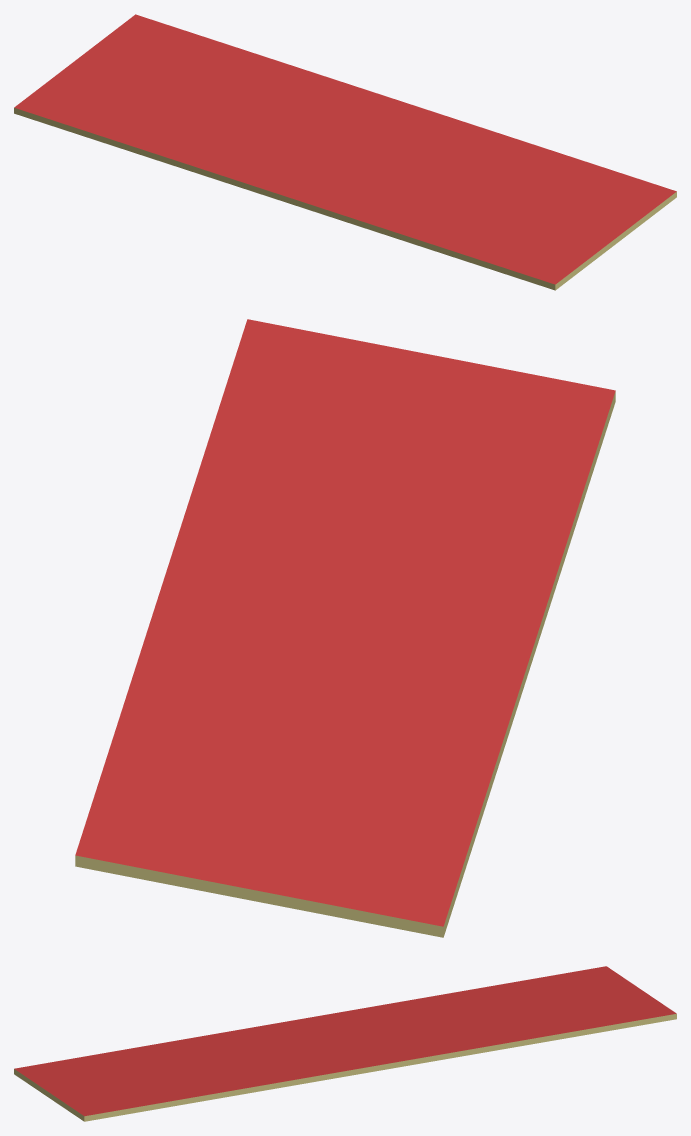
3 renders of one model, top to bottom at view 1: azimuth 30°, elevation 25°; view 2: azimuth 150°, elevation 25°; view 3: azimuth 270°, elevation 25°, orthographic. The views are drawn at different scales.
Bounding box in the file's own units: 6.79 × 10.86 × 0.554.
